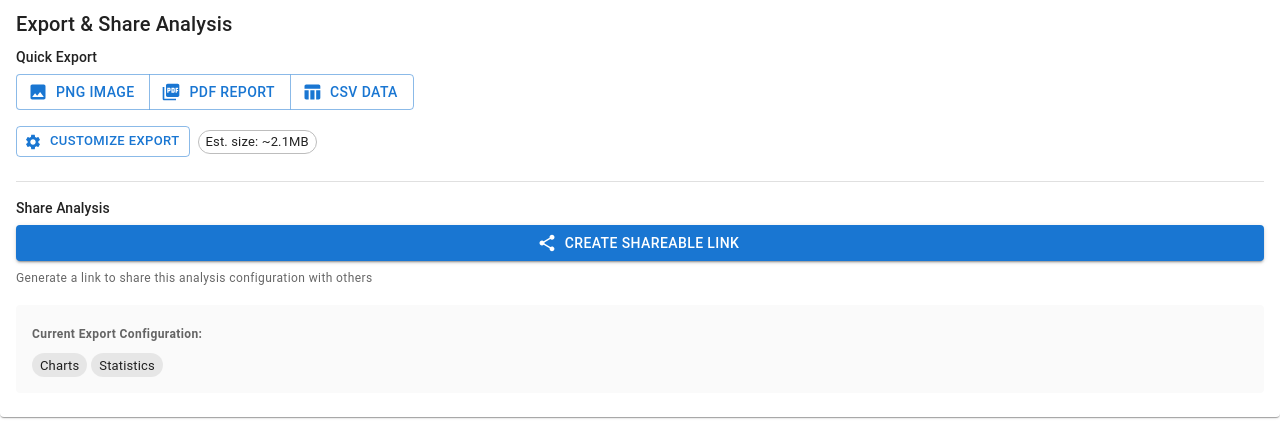
ExportControls › should show loading state during share
What coordinates should you click on to do the following:
click the button "Create Shareable Link"
I would click on:
 (640, 243)
Its box is x1=16 y1=225 x2=1264 y2=262.
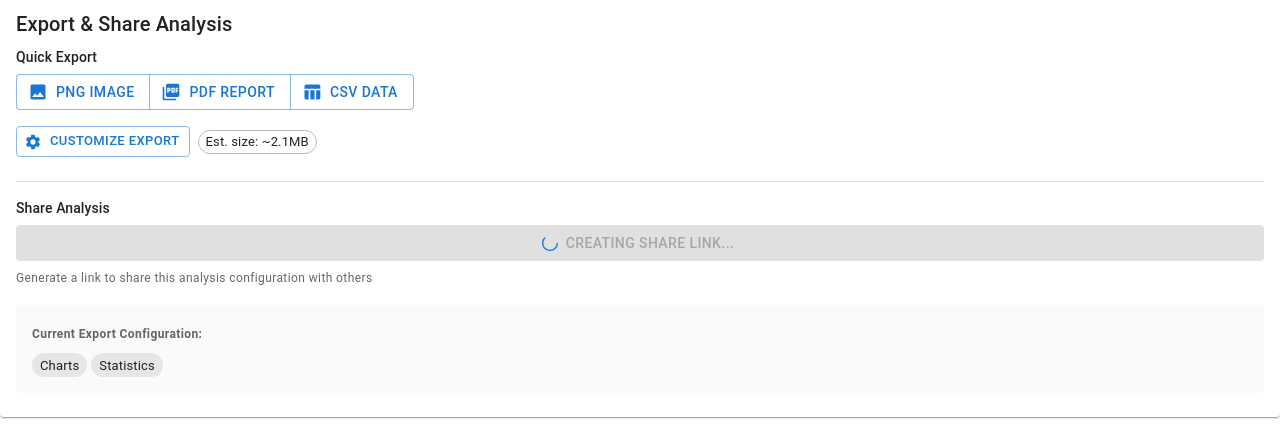
expect the button "Creating Share Link..." is disabled: met, box x1=16 y1=225 x2=1264 y2=262
